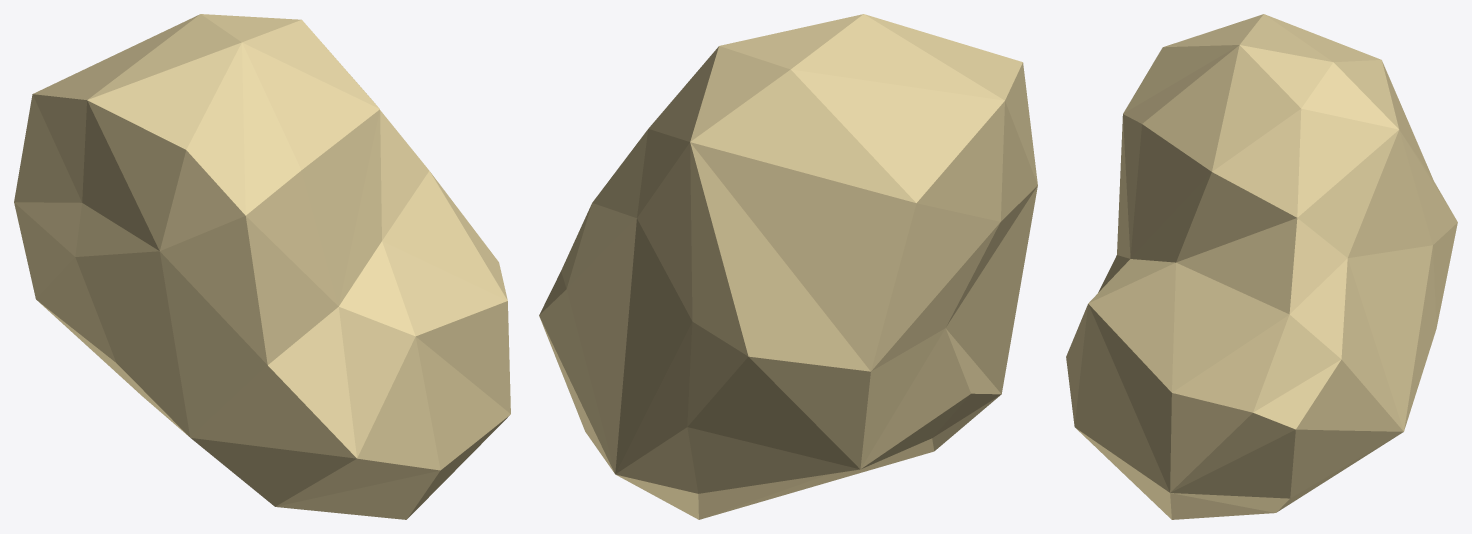
File: Rock (47).fbx
The picture shows the model from 3 angles, left to right: view 1: azimuth 30°, elevation 25°; view 2: azimuth 150°, elevation 25°; view 3: azimuth 270°, elevation 25°; orthographic projection. The views are drawn at different scales.
Visible parts, largest first — view 1: Asteroid46; view 2: Asteroid46; view 3: Asteroid46.
Boxes of the visible parts, left/top/right/bottom form: Asteroid46: left=14, top=14, right=510, bottom=519; Asteroid46: left=539, top=14, right=1037, bottom=519; Asteroid46: left=1066, top=14, right=1457, bottom=519.
Size of the model in its own units: 144 by 163 by 137.
